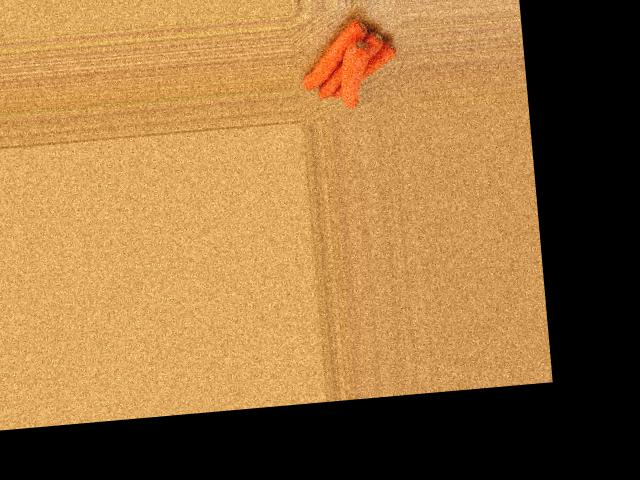carrot: (344, 37, 406, 92)
